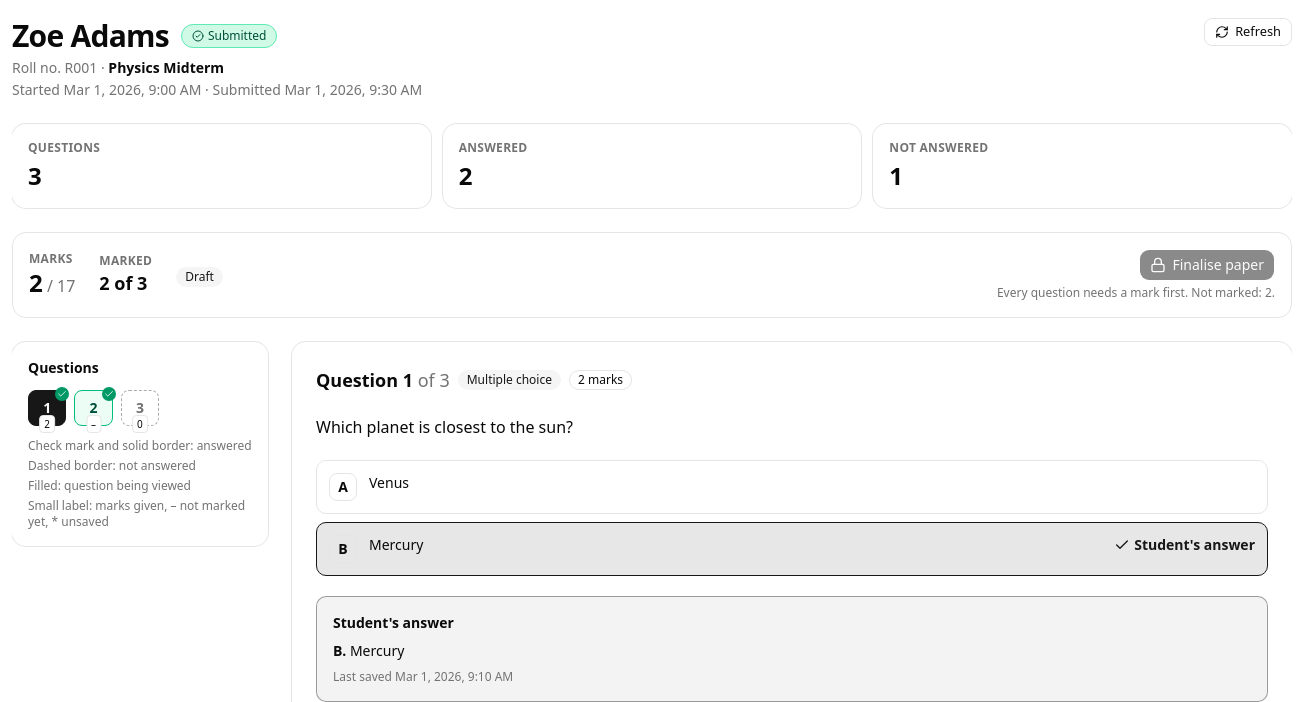
Test: marking in the response review › marks an essay: sends the attempt and version, then shows the new totals and 'Saved'
Expected: the heading "Question 1 of 3" is shown, [316,366,450,394]
Expected: the element named "Paper marks" is shown, [29,251,223,299]
Click the button named "Question 2," at (94, 408), box [74,390,113,426]
(page scrolled)
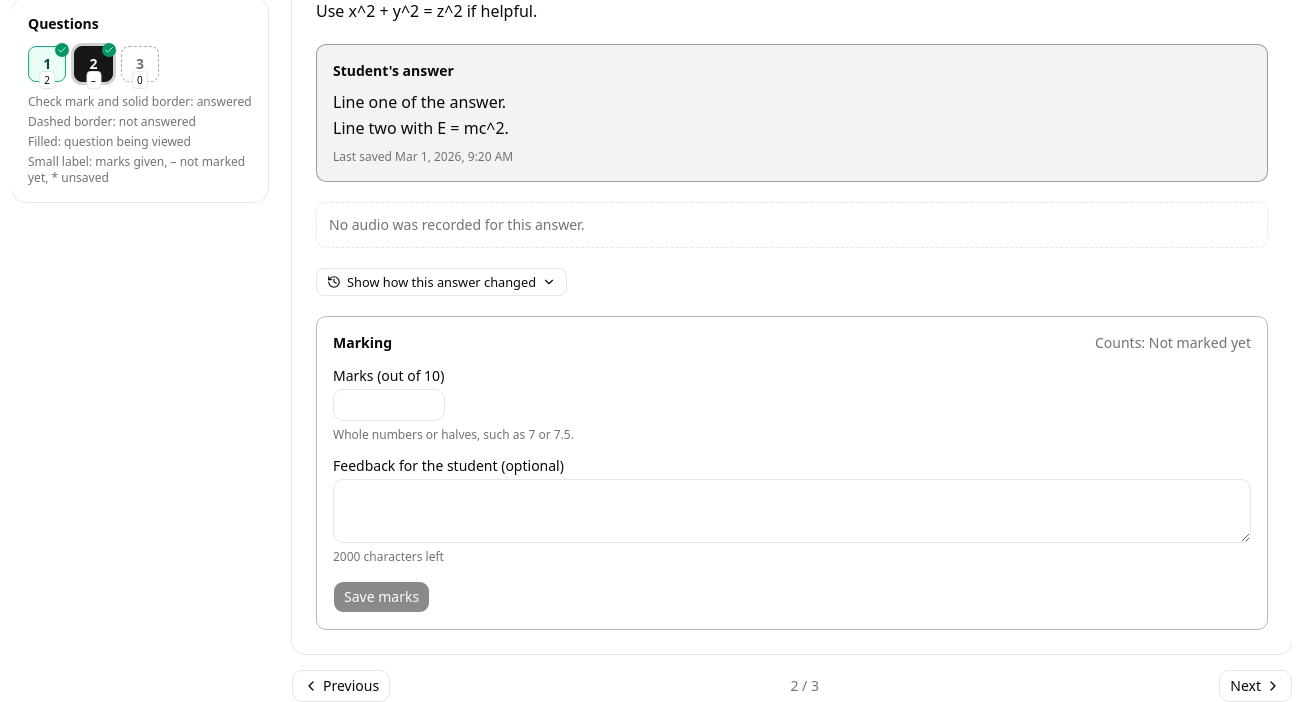
Expected: the text with test id "current-mark" shows "Not marked yet", [1149,333,1251,352]
Type "7.5" into the field labelled "Marks (out of 10)" at (389, 405), box [333,389,445,421]
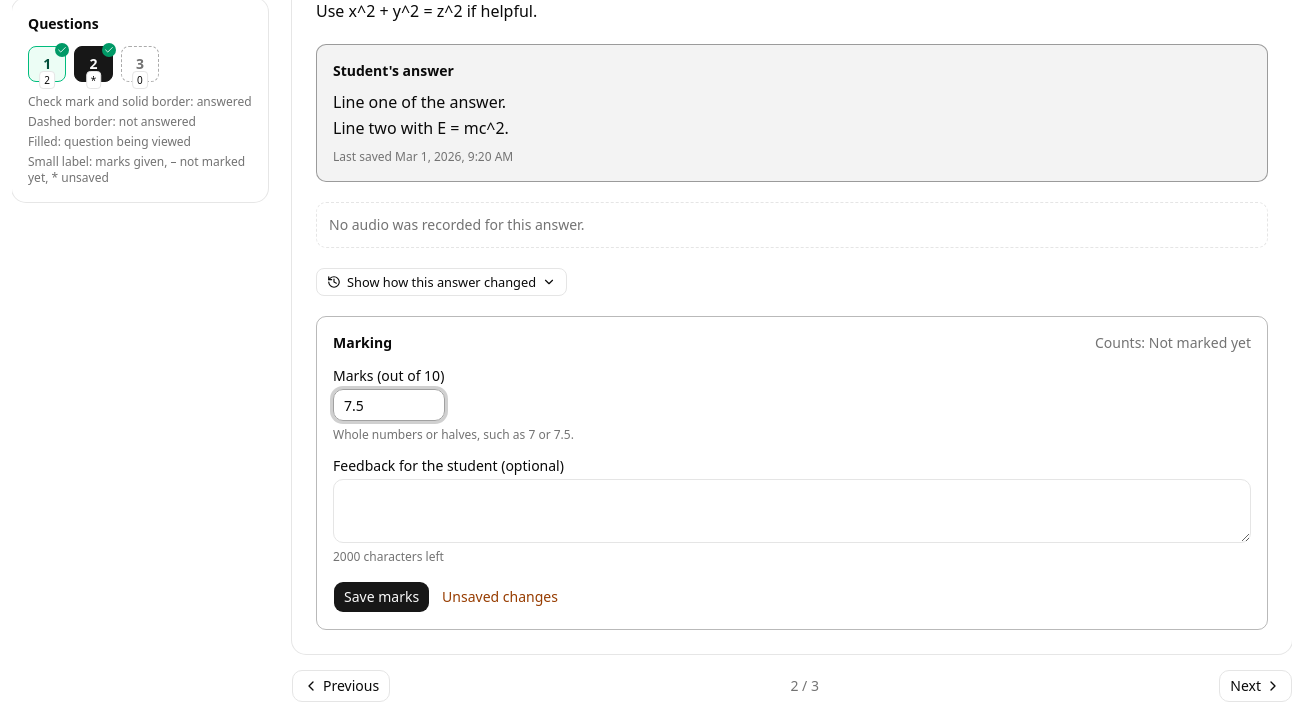
Type "Good" into the text box labelled "Feedback for the student (optional)" at (792, 511), box [333,479,1251,543]
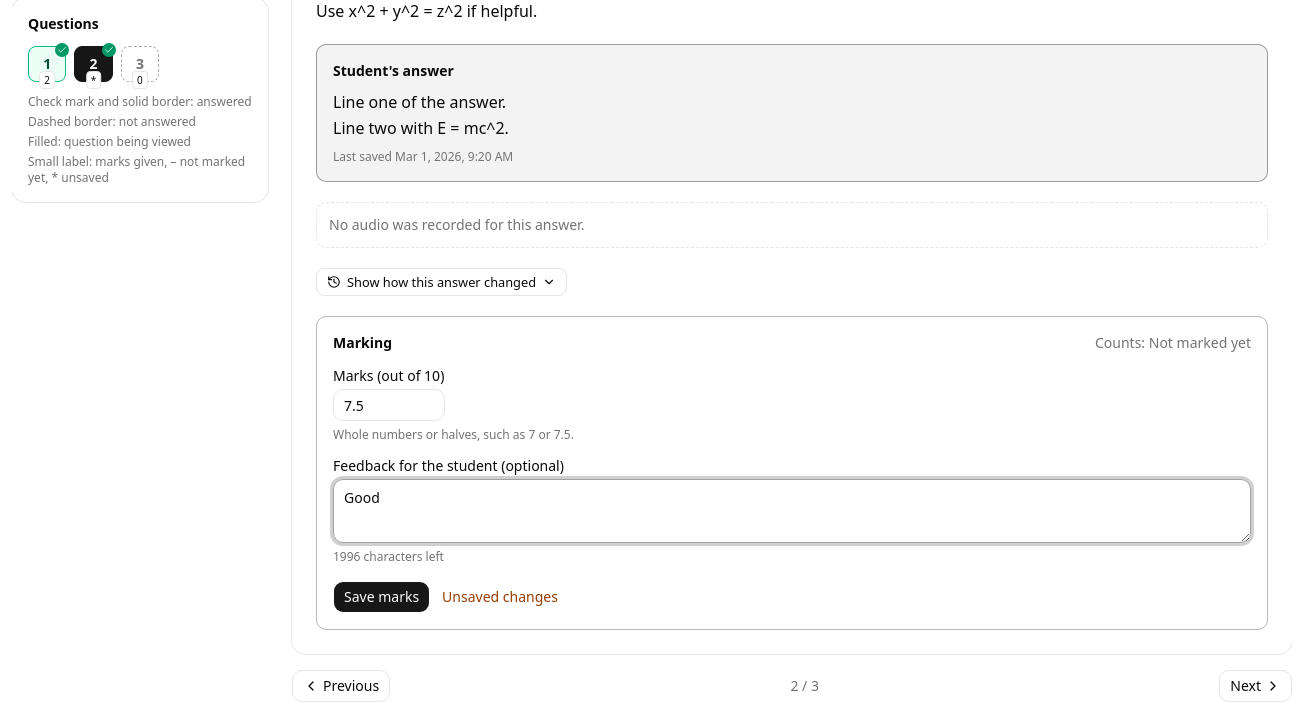
Click the button "Save marks" at (382, 597), box [333,581,430,613]
(page scrolled)
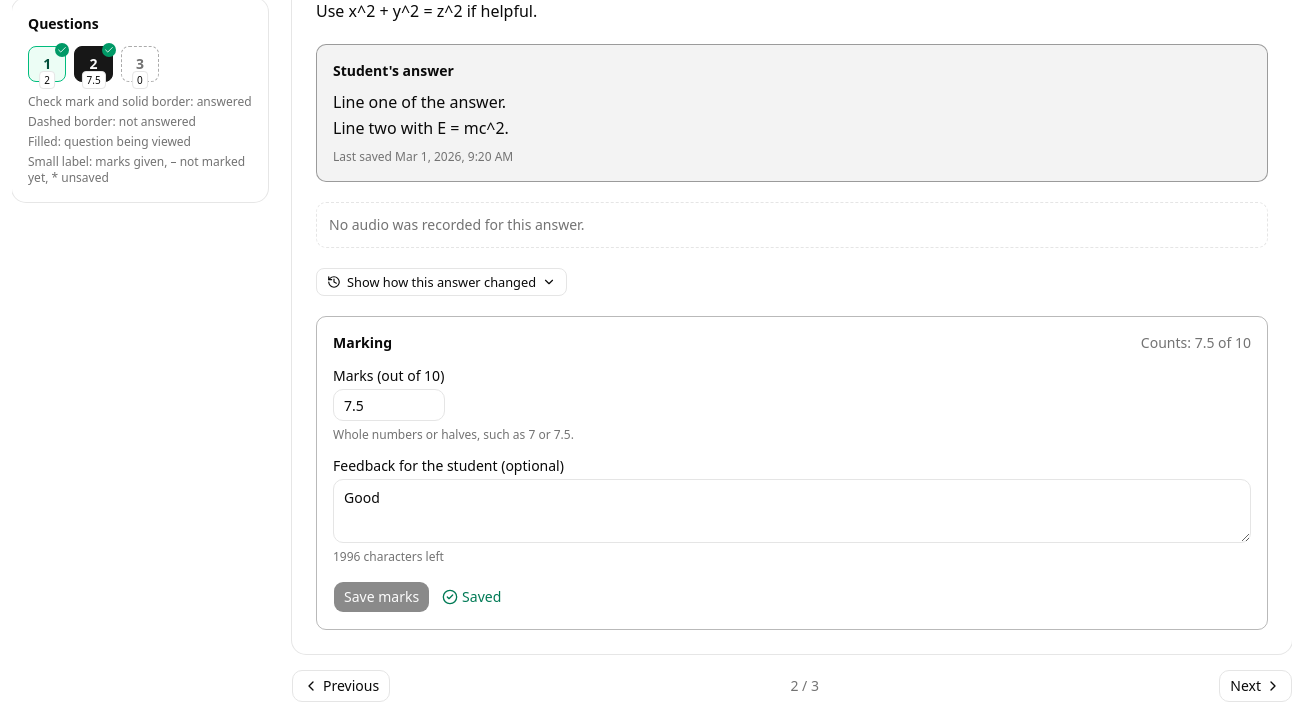
Expected: the text "Saved" is shown, [442,587,501,607]
Expected: the text with test id "current-mark" reads "Counts: 7.5 of 10", [1141,333,1251,353]
